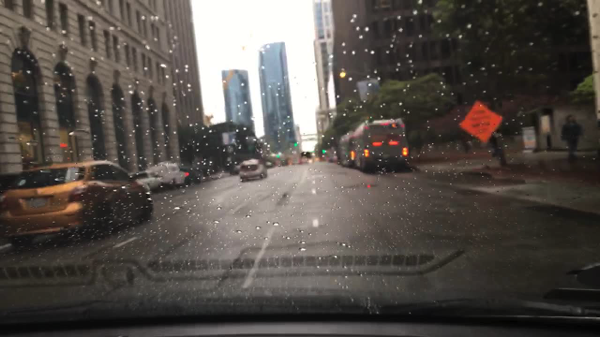bus: (352, 118, 410, 173), (338, 131, 353, 167), (301, 151, 313, 164)
car: (1, 160, 153, 247), (148, 162, 188, 191), (127, 171, 164, 194), (238, 158, 268, 182), (0, 171, 22, 194), (181, 167, 202, 187), (327, 151, 338, 162), (229, 165, 241, 175), (279, 158, 289, 166), (264, 162, 273, 169)
person: (560, 114, 583, 160), (489, 134, 497, 159)
traffic light: (322, 148, 326, 155), (293, 142, 296, 147)
traffic sign: (456, 100, 501, 143)
